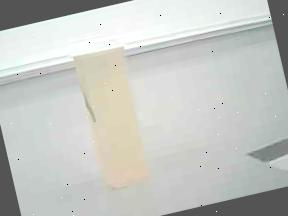Bottle A: (64, 29, 162, 200)
